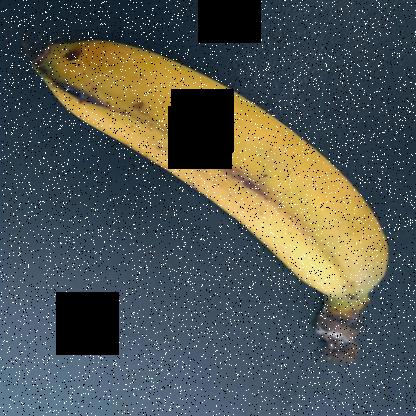freshripe: (37, 33, 405, 307)
